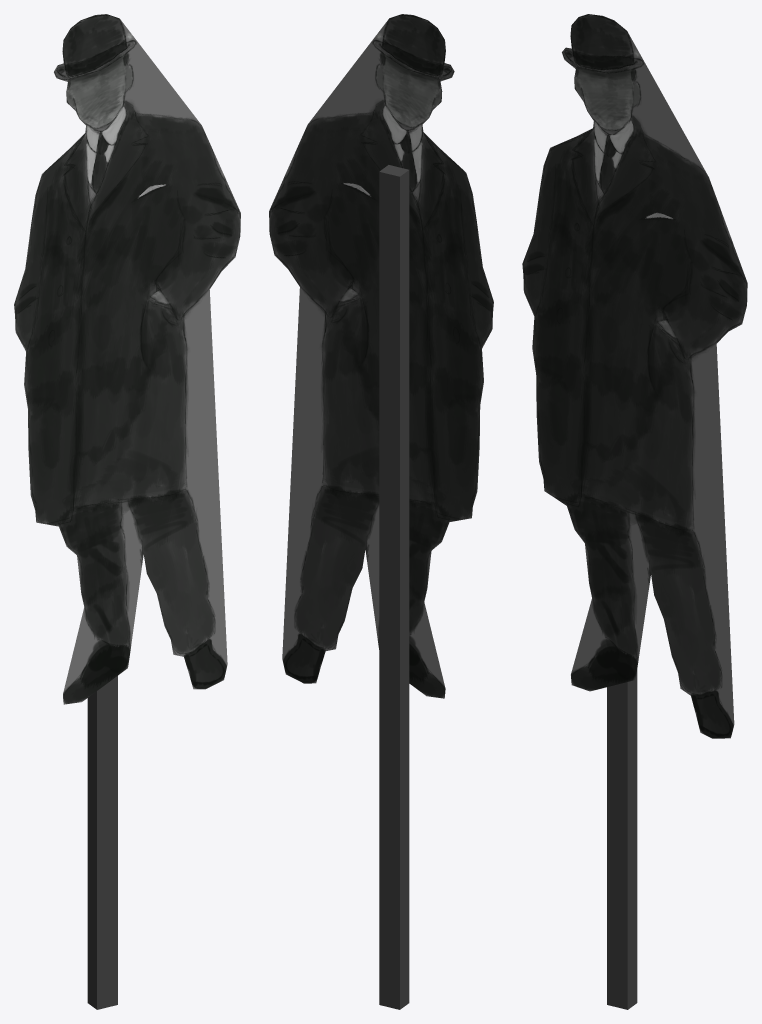
Rendered from Depression_man4.fbx.
The picture shows the model from 3 angles, left to right: view 1: azimuth 30°, elevation 25°; view 2: azimuth 150°, elevation 25°; view 3: azimuth 330°, elevation 25°; orthographic projection.
Visible parts, largest first — view 1: pCube1, pCube2; view 2: pCube1, pCube2; view 3: pCube1, pCube2.
Part boxes in pixels (x1,y1,x2,y2): pCube1: (14, 14, 240, 704); pCube2: (87, 676, 117, 1009); pCube1: (269, 14, 493, 698); pCube2: (379, 165, 409, 1009); pCube1: (522, 14, 747, 738); pCube2: (607, 669, 637, 1009).
Bounding box in the file's own units: 0.012 × 0.0505 × 0.000983.
Materials: 2 (1 with a texture image).
